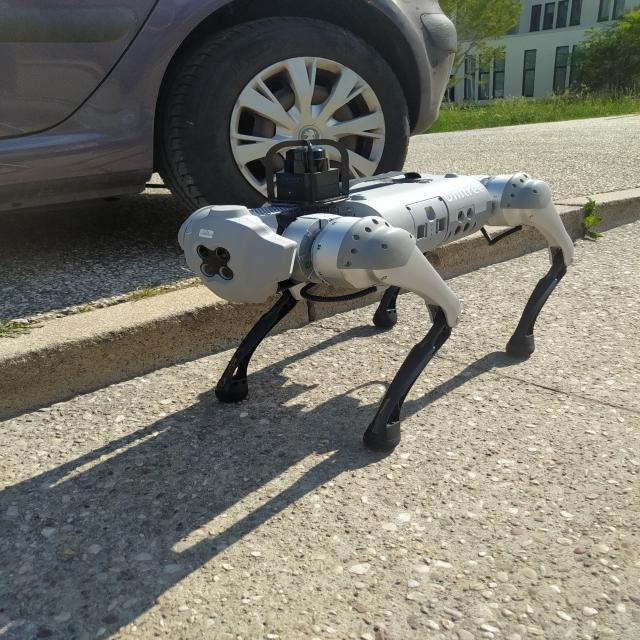unitree-go1-robot: (171, 128, 582, 464)
